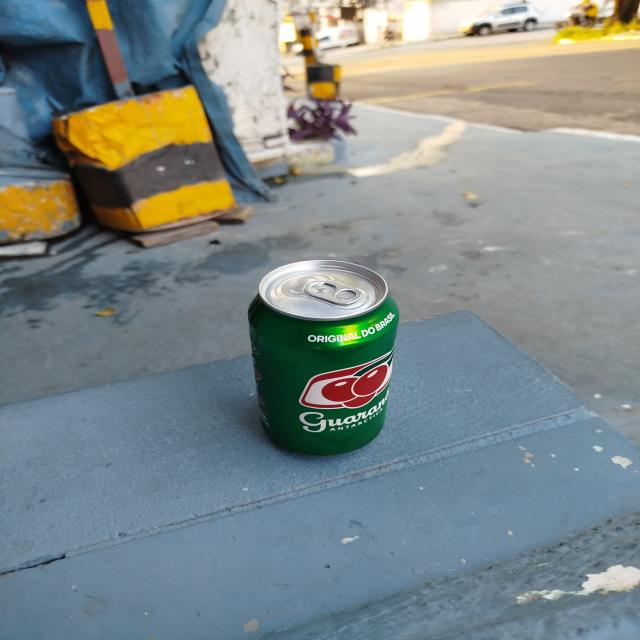Guarana: (250, 265, 399, 446)
